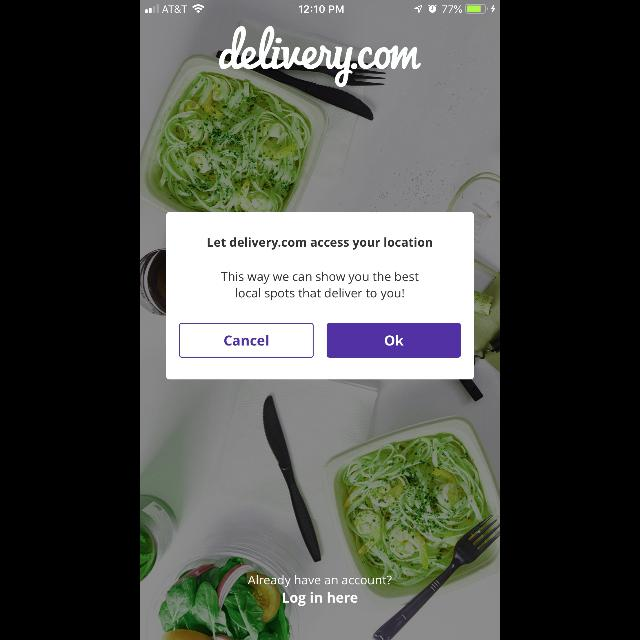backgroundimage: (140, 1, 500, 640)
image: (220, 26, 420, 88)
text: (222, 272, 418, 300), (208, 238, 432, 250), (248, 574, 392, 588), (282, 592, 358, 606)
textbutton: (180, 322, 314, 358), (327, 322, 461, 358)
uppertaskbar: (140, 0, 500, 14)
